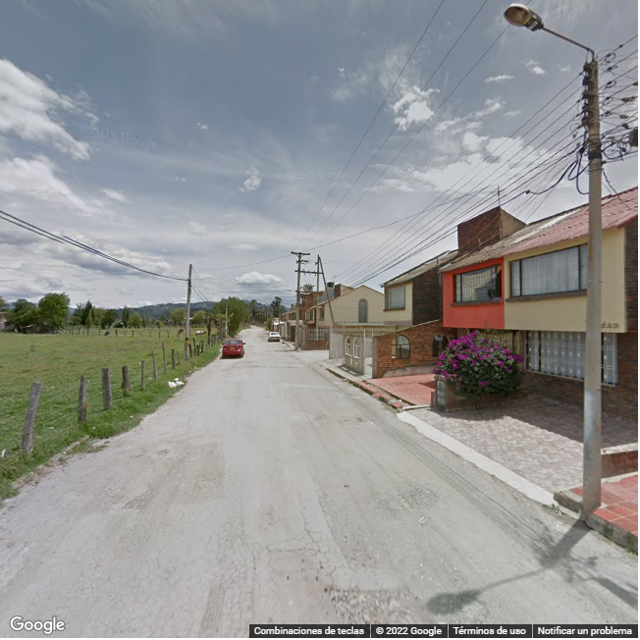D00: (293, 491, 321, 545), (265, 540, 280, 576)
D20: (212, 515, 254, 639)
D40: (405, 483, 446, 516)
